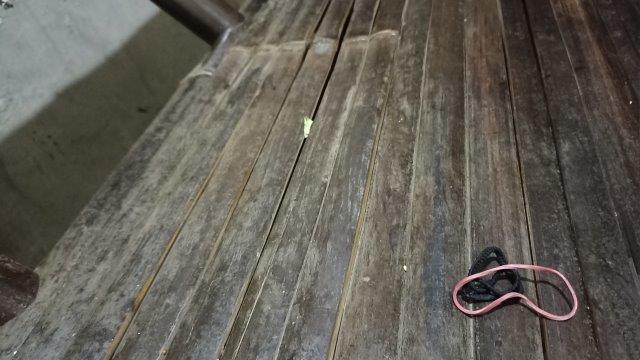karet: (453, 246, 577, 321)
